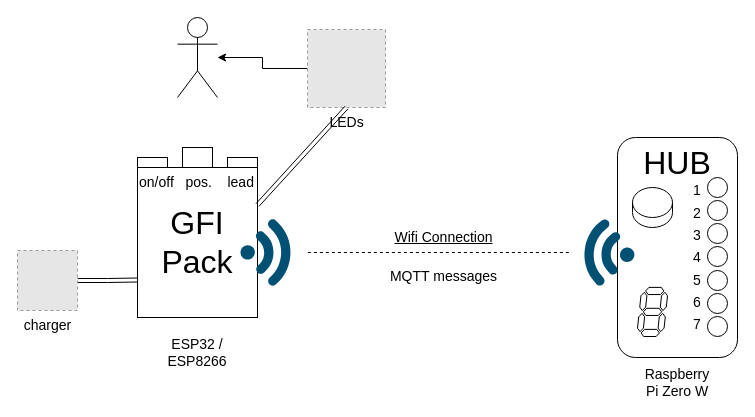
Some shapes in this 755 by 417 pixel diagram are drawn without their labels. Grey dashed boxes stand in for pictures. The shapes that lost their labels are listed below. From the top down, each one's centre as x and y in pixels, then its label:
the point at 197,57: Instructor
the point at 652,207: Go . .
